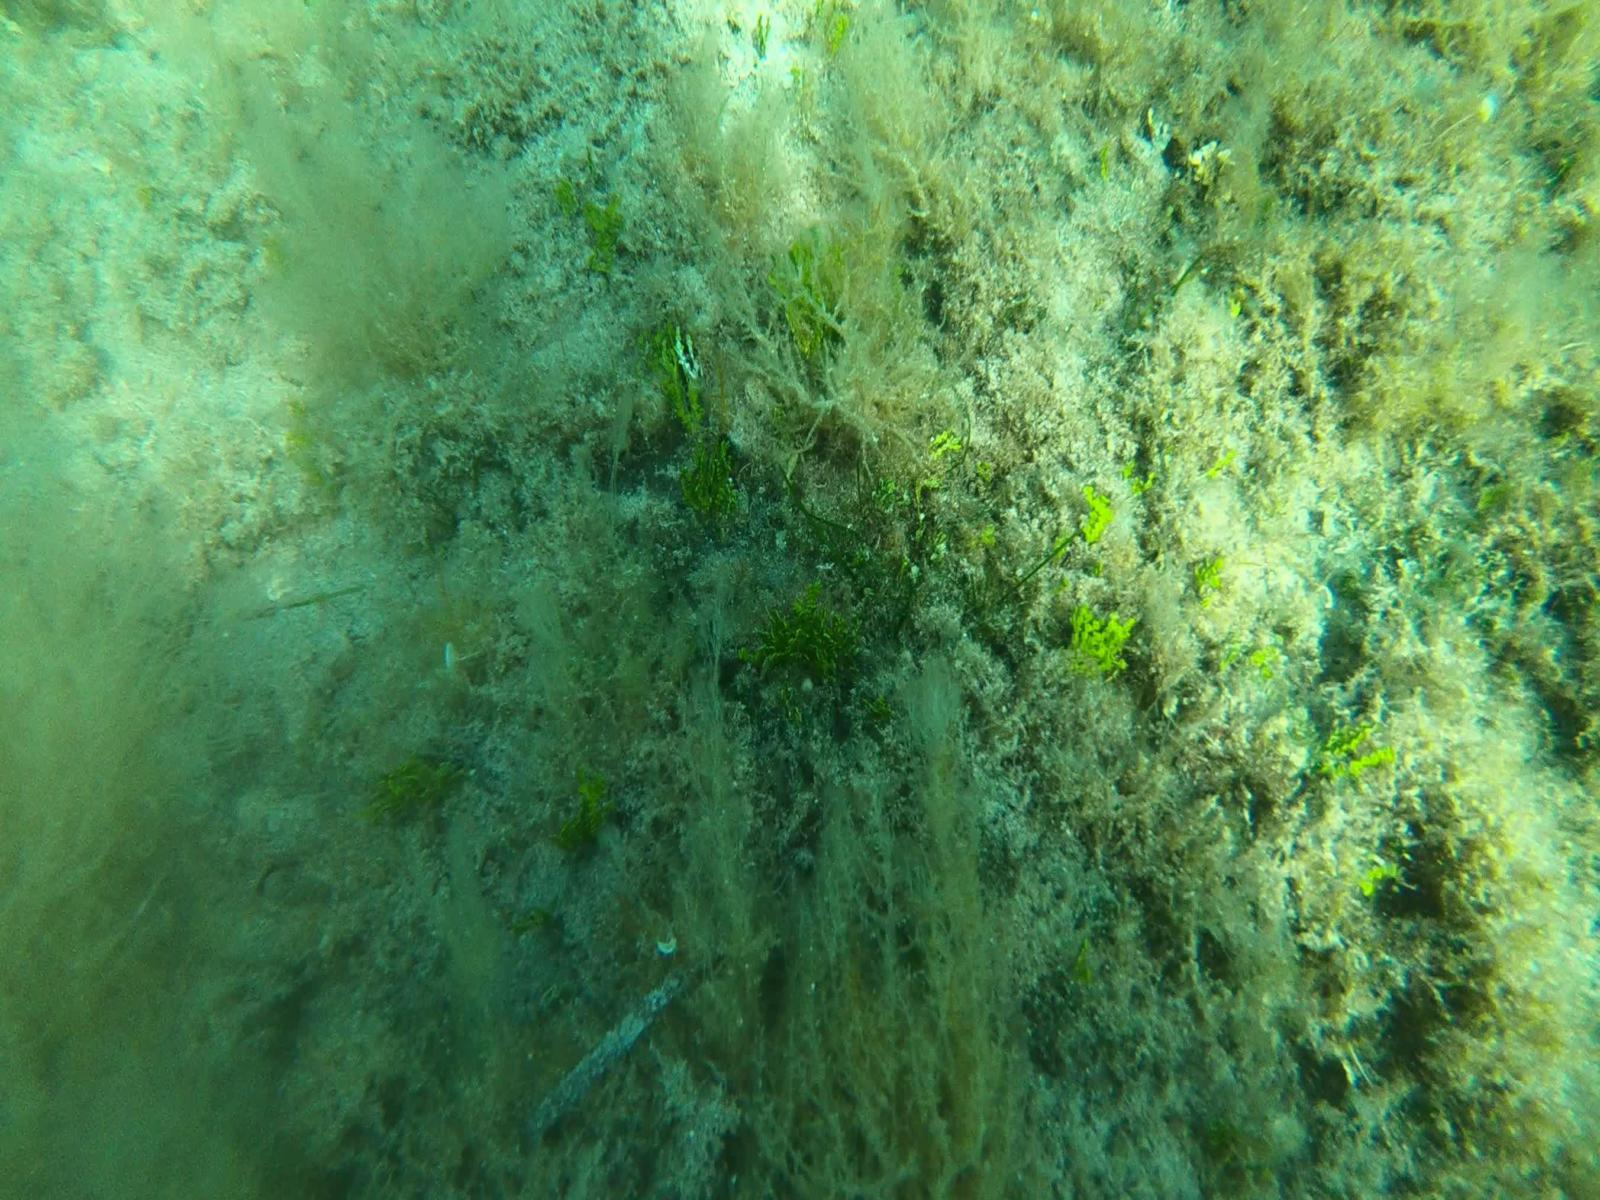halimeda: (751, 594, 866, 696), (649, 332, 724, 427), (1065, 592, 1136, 686), (368, 758, 465, 826), (1317, 711, 1393, 792), (677, 446, 740, 541), (787, 241, 837, 362), (557, 778, 617, 855), (1072, 482, 1125, 550), (583, 195, 624, 284), (1194, 542, 1226, 599), (866, 482, 905, 521), (929, 429, 963, 466), (753, 15, 772, 61)
